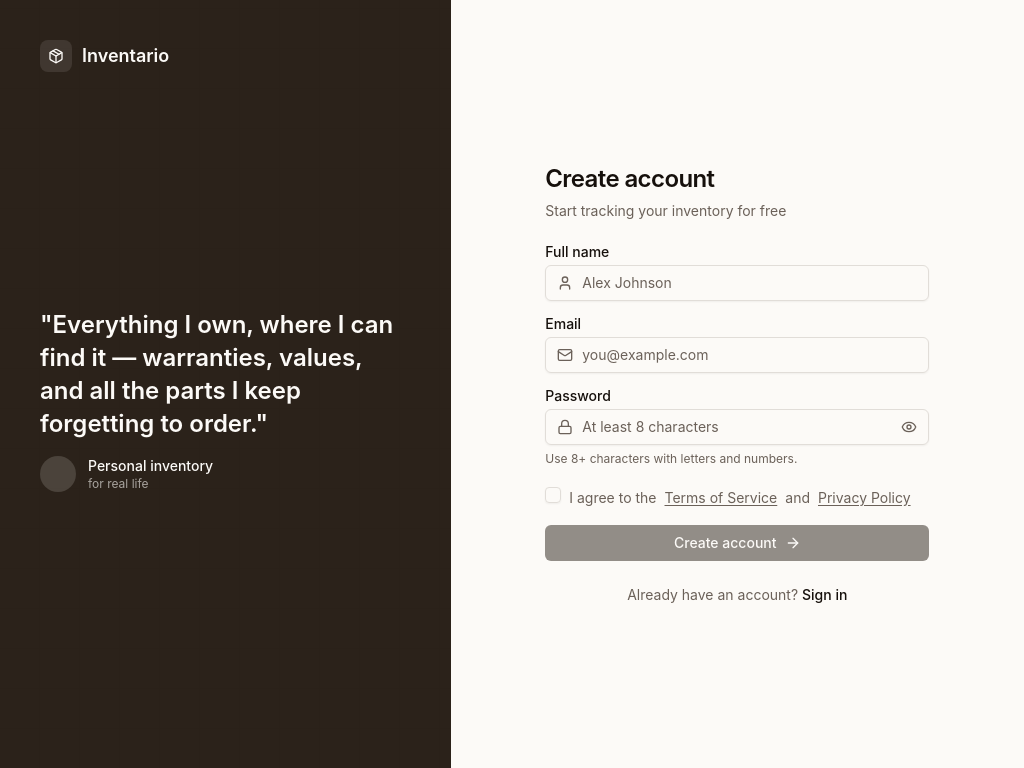
Test: <RegisterPage /> › renders the success state with the server message
Type "Alex" into the field with test id "name" at (737, 283), box [545,265,929,301]
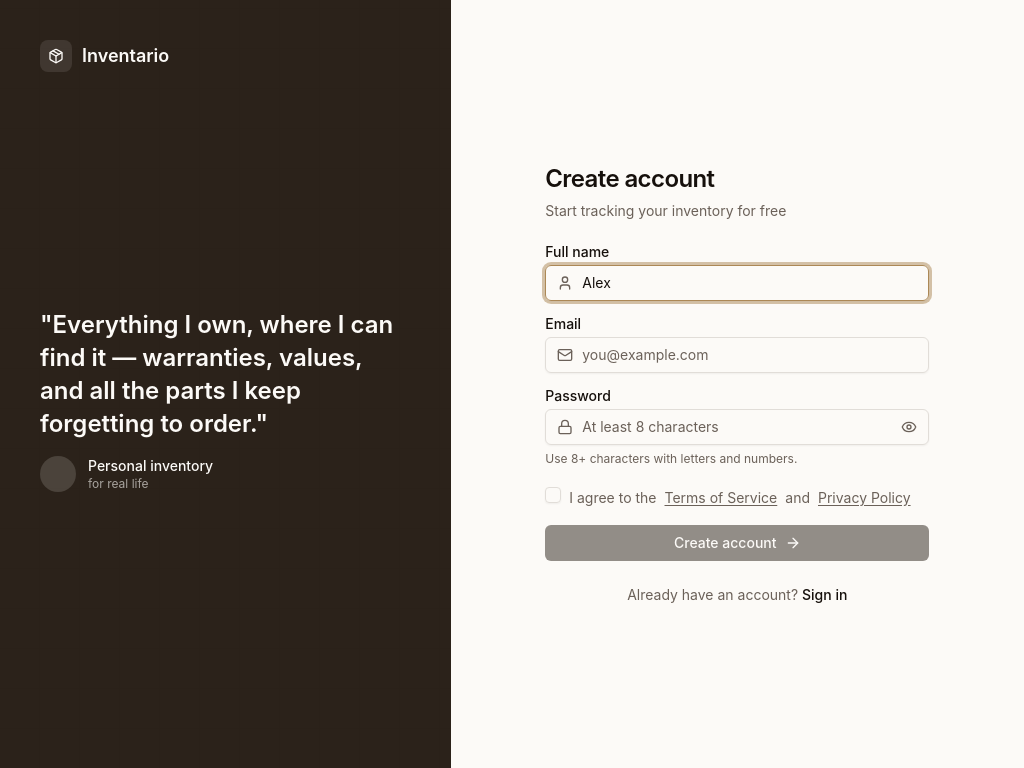
Type "alex@example.com" into the field with test id "email" at (737, 355), box [545,337,929,373]
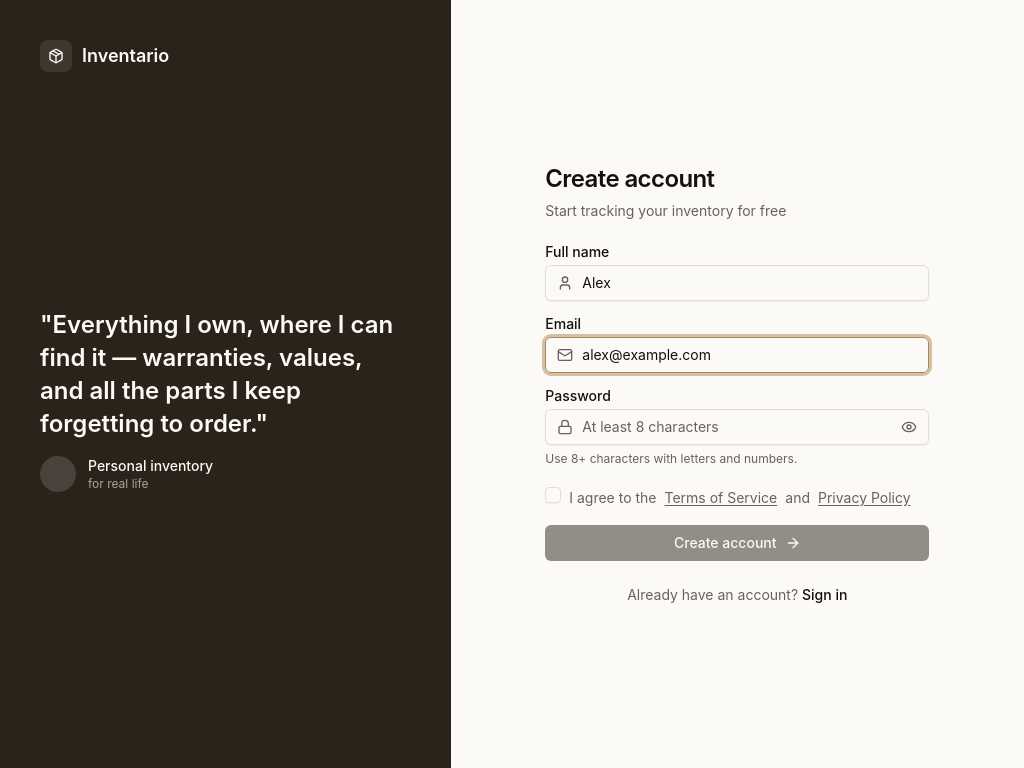
Type "secret-pw" into the password field with test id "password" at (737, 427), box [545,409,929,445]
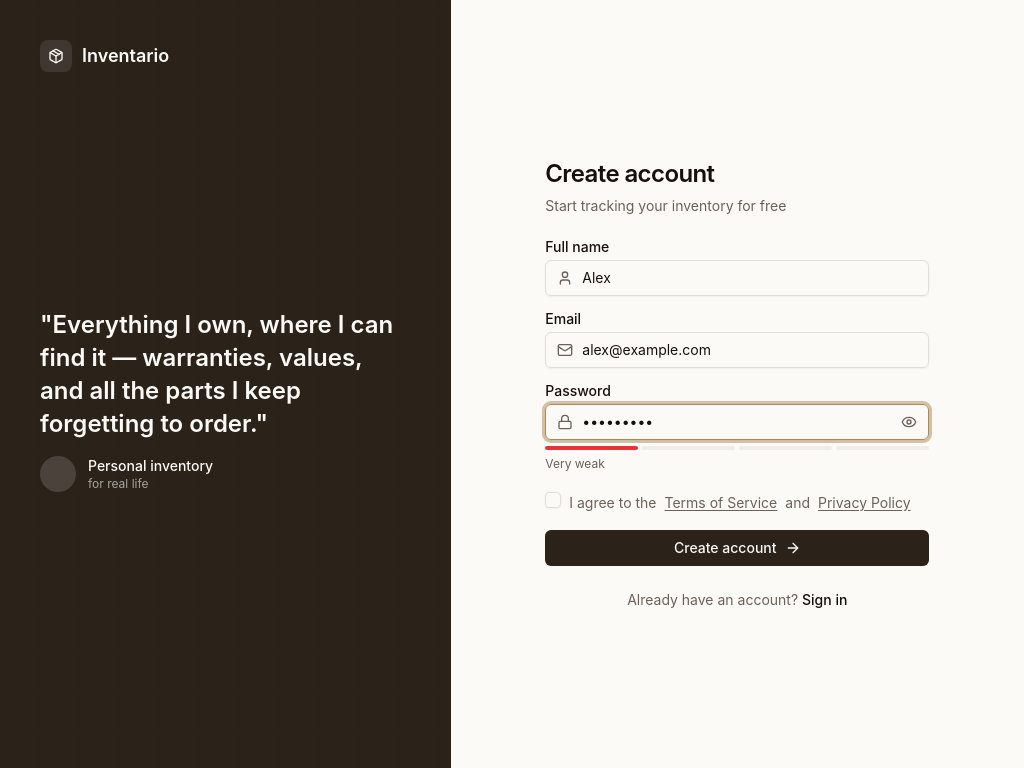
Click the checkbox with test id "terms" at (553, 500), box [545,492,561,508]
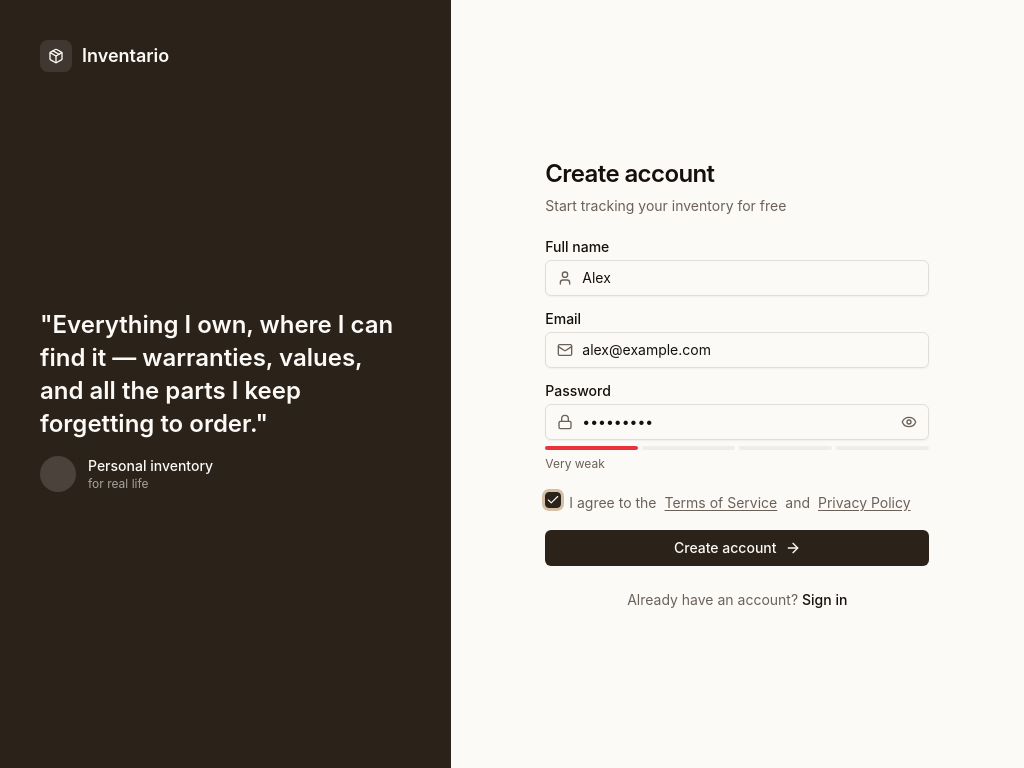
Click the button with test id "register-button" at (737, 548), box [545,530,929,566]
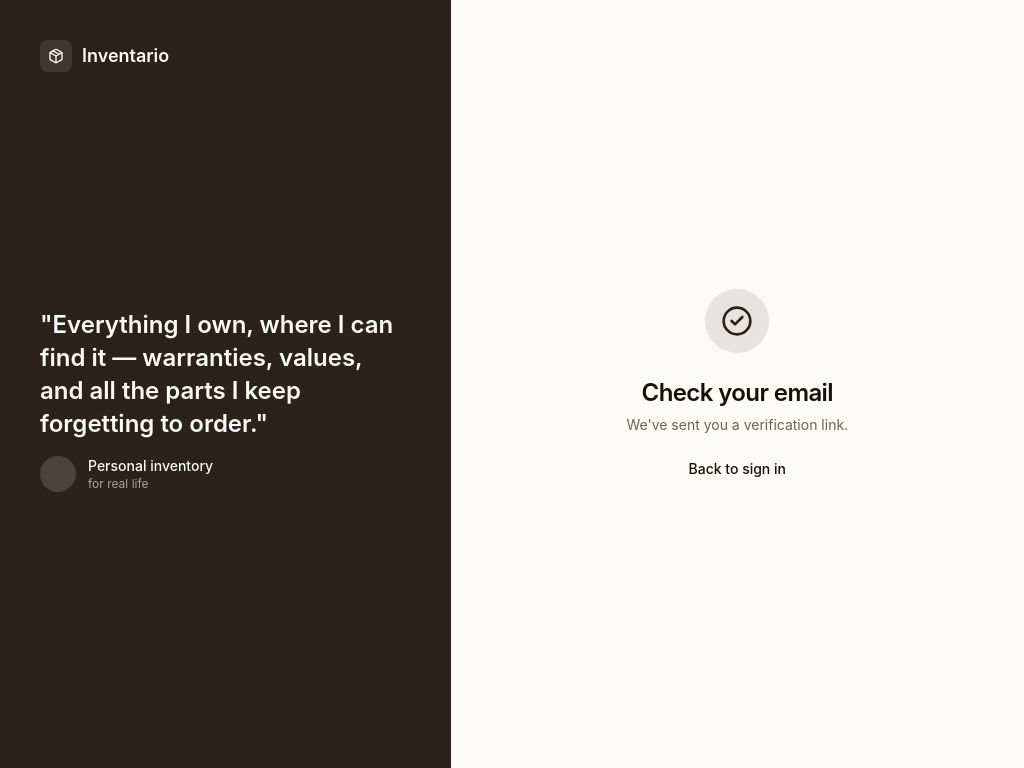
Check: the element with test id "register-success" shows "verification link", box [626,416,848,433]
